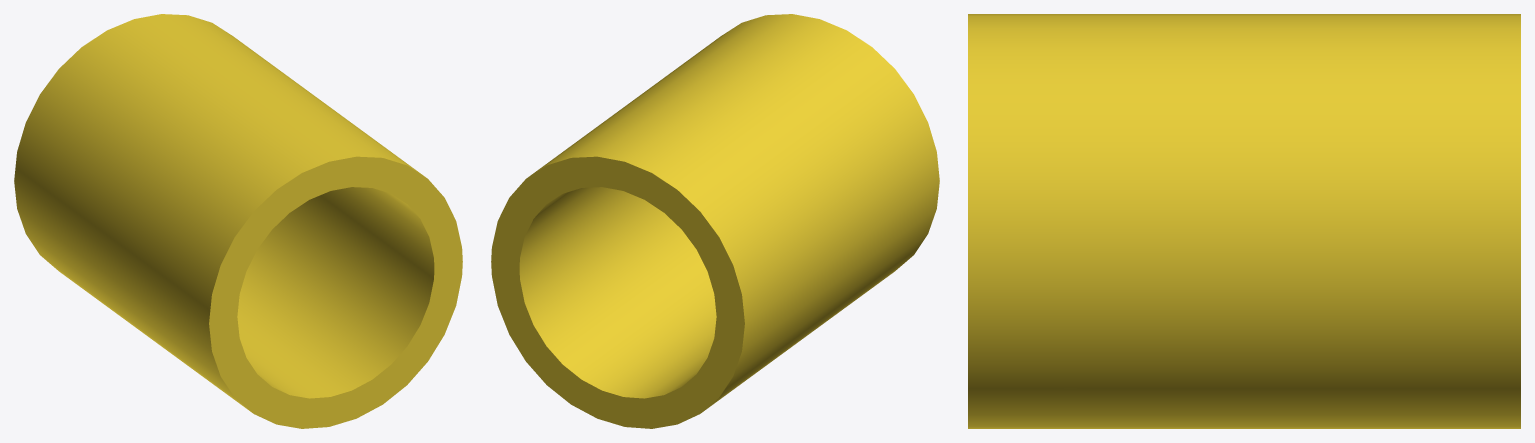
File: _6391K627_Oil_Embedded_841_Bronze_Sleeve_Bearing.gltf
3 views of the same model, side by side, from view 1: azimuth 30°, elevation 25°; view 2: azimuth 150°, elevation 25°; view 3: azimuth 270°, elevation 25° (orthographic). The views are drawn at different scales.
Parts seen in each view (by area): view 1: mesh16819, mesh16820, mesh16818; view 2: mesh16819, mesh16820, mesh16821; view 3: mesh16819.
Boxes of the visible parts, bbox=[...] form: mesh16819: bbox=[14, 14, 424, 412]; mesh16820: bbox=[237, 187, 434, 398]; mesh16818: bbox=[209, 156, 462, 428]; mesh16819: bbox=[529, 14, 939, 412]; mesh16820: bbox=[519, 187, 716, 398]; mesh16821: bbox=[491, 156, 744, 428]; mesh16819: bbox=[968, 14, 1520, 428].
Size of the model in its own units: 0.0143 by 0.0143 by 0.0191.
